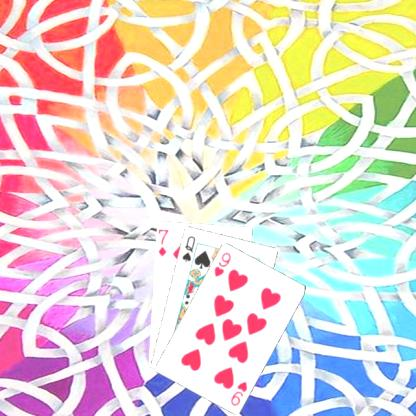7D: (155, 226, 170, 258)
9H: (211, 249, 233, 278), (227, 378, 249, 407)
QS: (179, 233, 196, 263)
